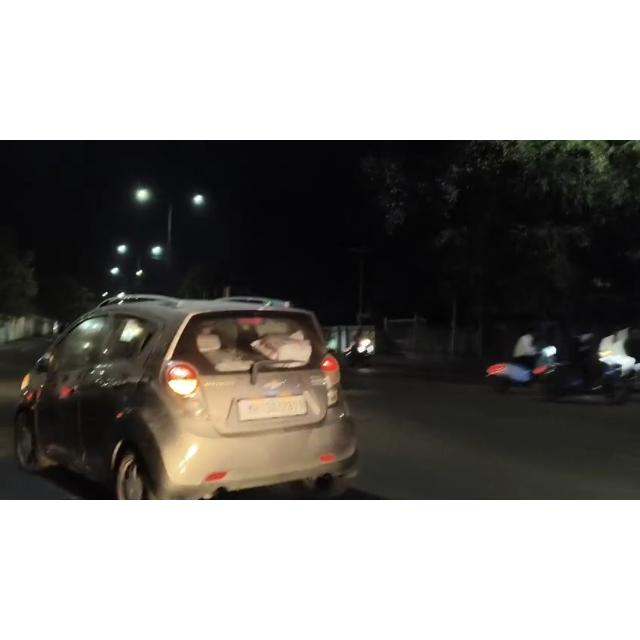car: (4, 274, 365, 501)
